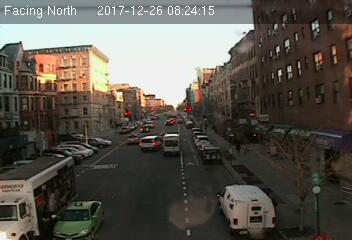car: (52, 200, 104, 239), (202, 146, 224, 164), (139, 136, 161, 149), (127, 132, 140, 144)
truck: (2, 154, 76, 240), (214, 184, 281, 238), (161, 133, 180, 157)
